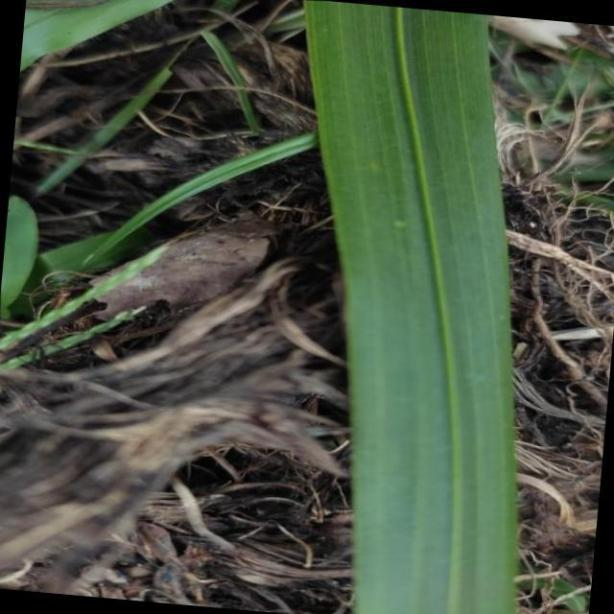Healthy: (302, 0, 518, 614)
